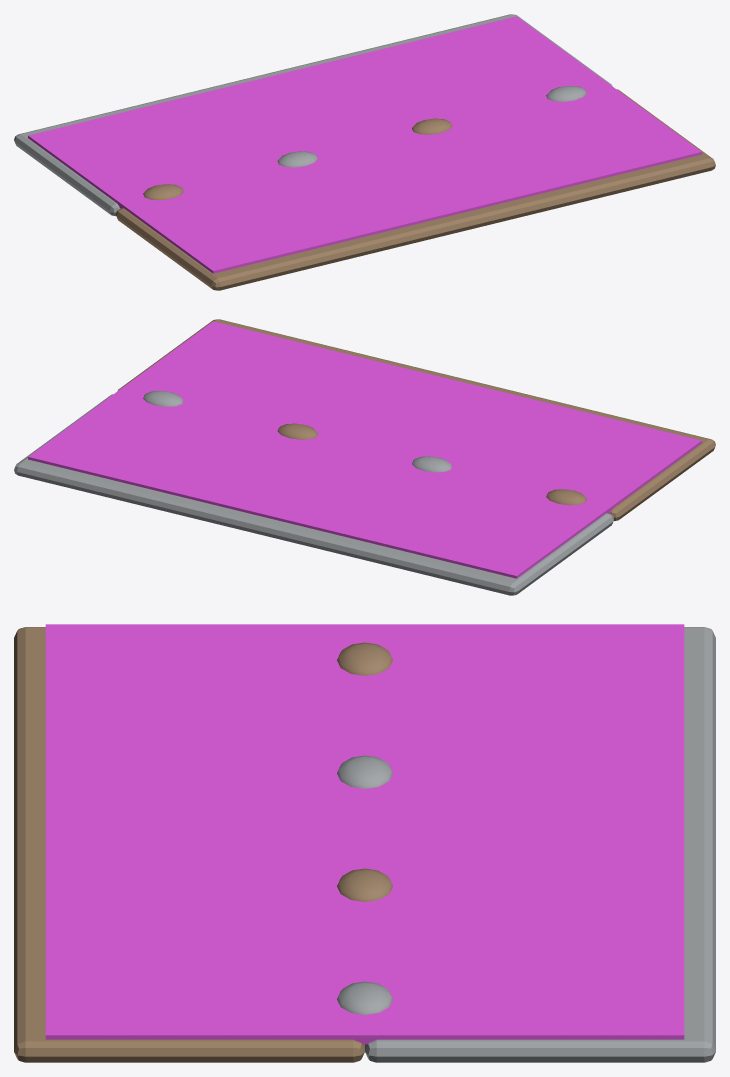
The model's file is transition_dirt_rock_lod1_v1.glb.
3 views of the same model, one above another, from view 1: azimuth 30°, elevation 25°; view 2: azimuth 150°, elevation 25°; view 3: azimuth 270°, elevation 25° (orthographic). The views are drawn at different scales.
Visible parts, largest first — view 1: NAV_MASK_TRANSITION_DIRT_ROCK, LOD1_TRANSITION_DIRT_ROCK_A, LOD1_TRANSITION_DIRT_ROCK_B, LOD1_TRANSITION_DIRT_ROCK_Blend_02, LOD1_TRANSITION_DIRT_ROCK_Blend_03, LOD1_TRANSITION_DIRT_ROCK_Blend_01, LOD1_TRANSITION_DIRT_ROCK_Blend_04; view 2: NAV_MASK_TRANSITION_DIRT_ROCK, LOD1_TRANSITION_DIRT_ROCK_B, LOD1_TRANSITION_DIRT_ROCK_A, LOD1_TRANSITION_DIRT_ROCK_Blend_02, LOD1_TRANSITION_DIRT_ROCK_Blend_03, LOD1_TRANSITION_DIRT_ROCK_Blend_01, LOD1_TRANSITION_DIRT_ROCK_Blend_04; view 3: NAV_MASK_TRANSITION_DIRT_ROCK, LOD1_TRANSITION_DIRT_ROCK_A, LOD1_TRANSITION_DIRT_ROCK_B, LOD1_TRANSITION_DIRT_ROCK_Blend_04, LOD1_TRANSITION_DIRT_ROCK_Blend_01, LOD1_TRANSITION_DIRT_ROCK_Blend_02, LOD1_TRANSITION_DIRT_ROCK_Blend_03.
Boxes of the visible parts, x1,y1,x2,y2 form: NAV_MASK_TRANSITION_DIRT_ROCK: (28, 16, 701, 273); LOD1_TRANSITION_DIRT_ROCK_A: (116, 89, 715, 290); LOD1_TRANSITION_DIRT_ROCK_B: (14, 14, 612, 216); LOD1_TRANSITION_DIRT_ROCK_Blend_02: (277, 151, 317, 167); LOD1_TRANSITION_DIRT_ROCK_Blend_03: (412, 118, 452, 134); LOD1_TRANSITION_DIRT_ROCK_Blend_01: (143, 184, 183, 200); LOD1_TRANSITION_DIRT_ROCK_Blend_04: (546, 86, 586, 101); NAV_MASK_TRANSITION_DIRT_ROCK: (28, 321, 701, 578); LOD1_TRANSITION_DIRT_ROCK_B: (14, 394, 613, 595); LOD1_TRANSITION_DIRT_ROCK_A: (117, 319, 715, 521); LOD1_TRANSITION_DIRT_ROCK_Blend_02: (412, 456, 452, 472); LOD1_TRANSITION_DIRT_ROCK_Blend_03: (277, 423, 317, 439); LOD1_TRANSITION_DIRT_ROCK_Blend_01: (546, 489, 586, 505); LOD1_TRANSITION_DIRT_ROCK_Blend_04: (143, 391, 183, 406); NAV_MASK_TRANSITION_DIRT_ROCK: (45, 624, 684, 1044); LOD1_TRANSITION_DIRT_ROCK_A: (14, 627, 364, 1062); LOD1_TRANSITION_DIRT_ROCK_B: (365, 627, 715, 1062); LOD1_TRANSITION_DIRT_ROCK_Blend_04: (337, 981, 392, 1014); LOD1_TRANSITION_DIRT_ROCK_Blend_01: (337, 642, 392, 675); LOD1_TRANSITION_DIRT_ROCK_Blend_02: (337, 755, 392, 788); LOD1_TRANSITION_DIRT_ROCK_Blend_03: (337, 868, 392, 901).
Size of what is drawn, in the model's own units: 6 by 0.23 by 4.2.
